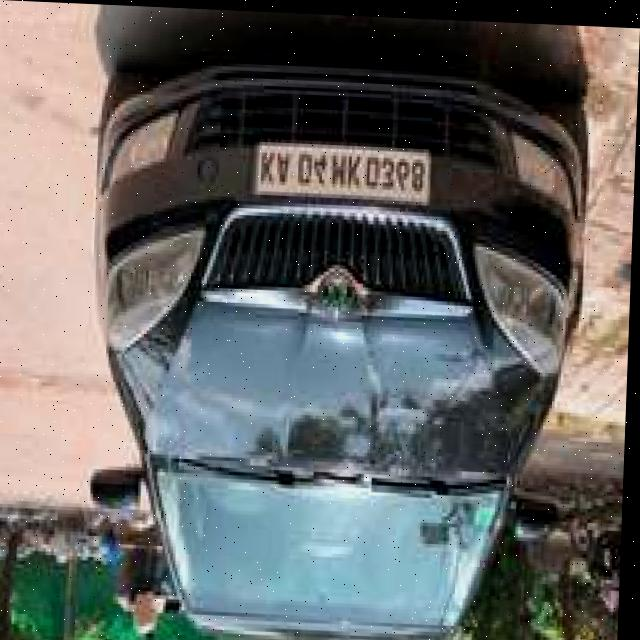plate: (254, 138, 434, 200)
